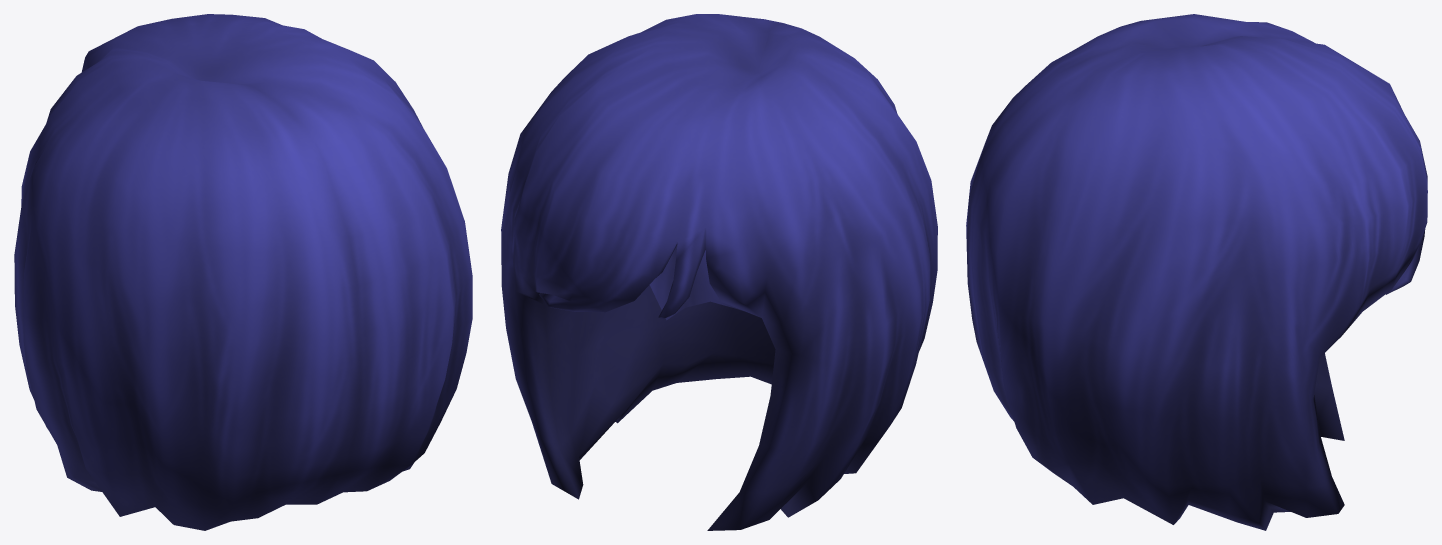
The model's file is Hair_Female_004_textured_blue.glb.
3 renders of one model, left to right at view 1: azimuth 30°, elevation 25°; view 2: azimuth 150°, elevation 25°; view 3: azimuth 270°, elevation 25°, orthographic. The views are drawn at different scales.
Visible parts, largest first — view 1: Hair_Female_004; view 2: Hair_Female_004; view 3: Hair_Female_004.
Boxes of the visible parts, x1,y1,x2,y2 form: Hair_Female_004: (14,14,472,530); Hair_Female_004: (501,14,937,530); Hair_Female_004: (966,14,1427,530).
Bounding box in the file's own units: 0.214 × 0.2309 × 0.223.
Materials: 1 (1 with a texture image).
